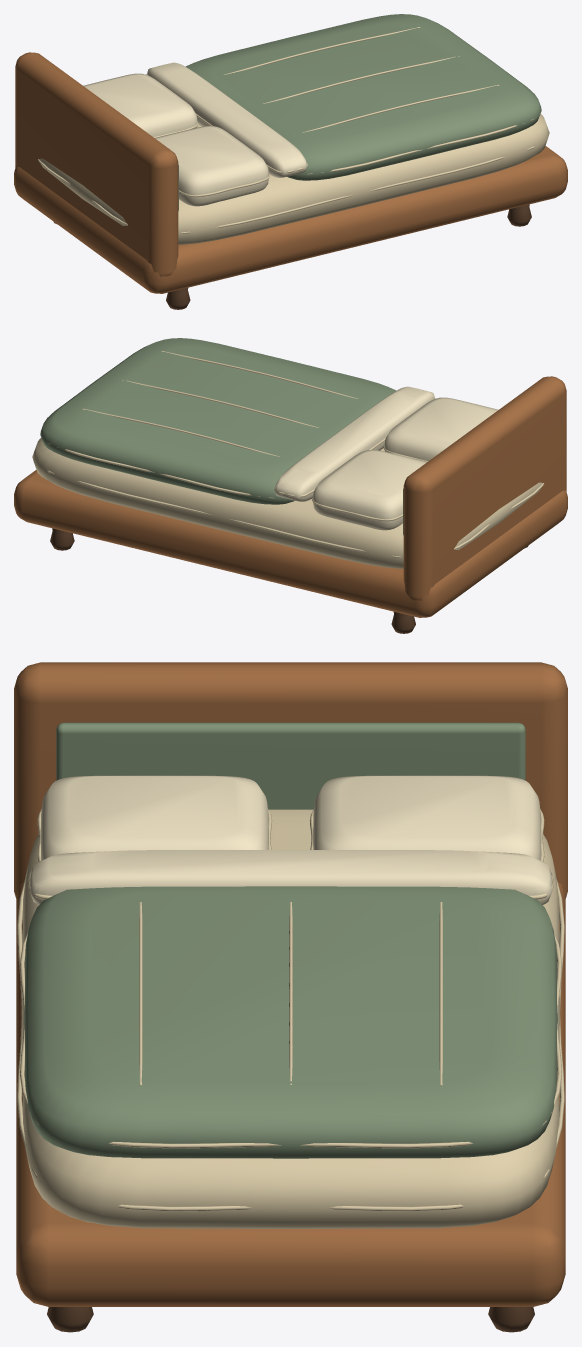
File: bed.glb
The picture shows the model from 3 angles, top to bottom: view 1: azimuth 30°, elevation 25°; view 2: azimuth 150°, elevation 25°; view 3: azimuth 270°, elevation 25°; orthographic projection. The views are drawn at different scales.
Parts seen in each view (by area): view 1: House_bed; view 2: House_bed; view 3: House_bed.
Part boxes in pixels (x1,y1,x2,y2): House_bed: (14,14,567,309); House_bed: (14,338,567,633); House_bed: (14,662,567,1332).
Bounding box in the file's own units: 1.99 × 0.75 × 1.18.
